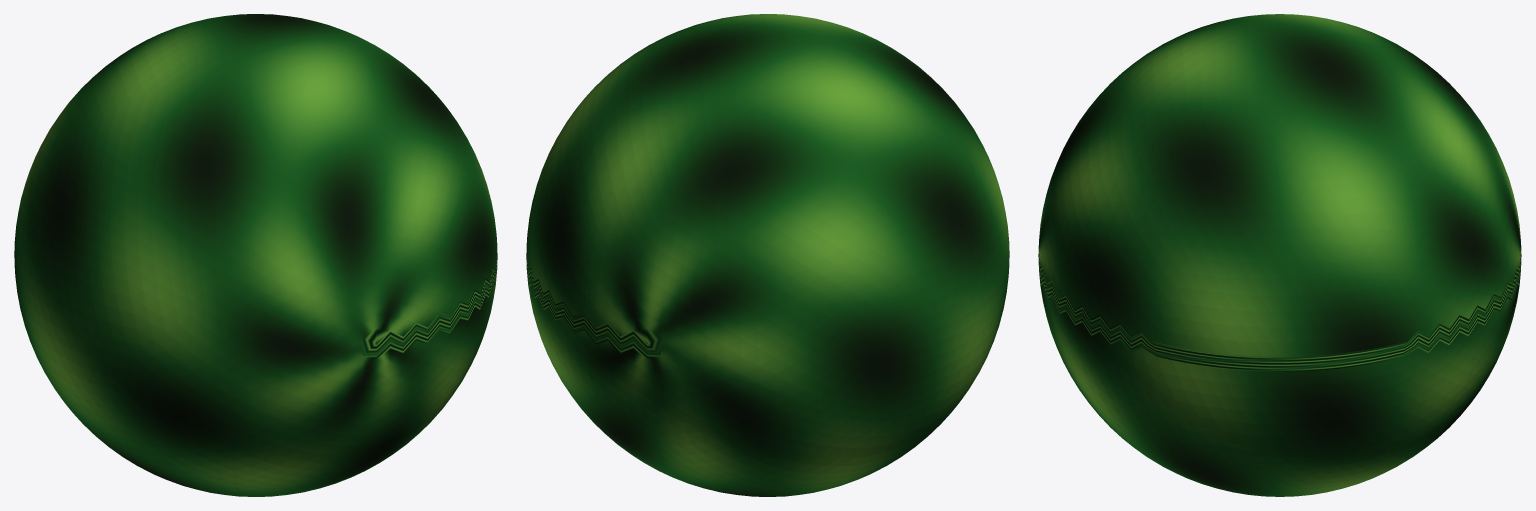
Rendered from sphere-forest.glb.
The picture shows the model from 3 angles, left to right: view 1: azimuth 30°, elevation 25°; view 2: azimuth 150°, elevation 25°; view 3: azimuth 270°, elevation 25°; orthographic projection.
Parts seen in each view (by area): view 1: world; view 2: world; view 3: world.
Boxes of the visible parts, x1,y1,x2,y2 form: world: (14, 14, 497, 496); world: (526, 14, 1009, 496); world: (1038, 14, 1521, 496).
Size of the model in its own units: 1.2 by 1.2 by 1.2.
Materials: 1 (1 with a texture image).
